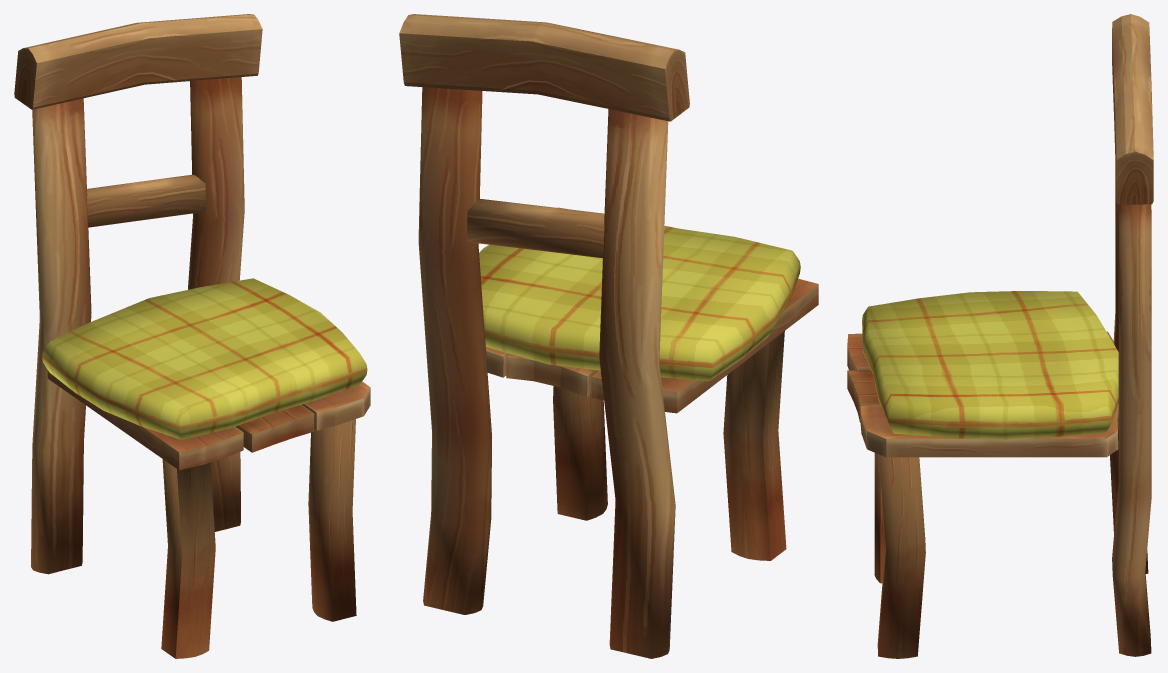
File: kitchen_chair.glb
The picture shows the model from 3 angles, left to right: view 1: azimuth 30°, elevation 25°; view 2: azimuth 150°, elevation 25°; view 3: azimuth 270°, elevation 25°; orthographic projection. The views are drawn at different scales.
Parts seen in each view (by area): view 1: Cube.026_Material.026_0; view 2: Cube.026_Material.026_0; view 3: Cube.026_Material.026_0.
Boxes of the visible parts, x1,y1,x2,y2 form: Cube.026_Material.026_0: (14, 14, 370, 658); Cube.026_Material.026_0: (399, 14, 818, 658); Cube.026_Material.026_0: (847, 14, 1153, 658).
Size of the model in its own units: 0.5851 by 1.2 by 0.6173.
Materials: 9 (9 with a texture image).
